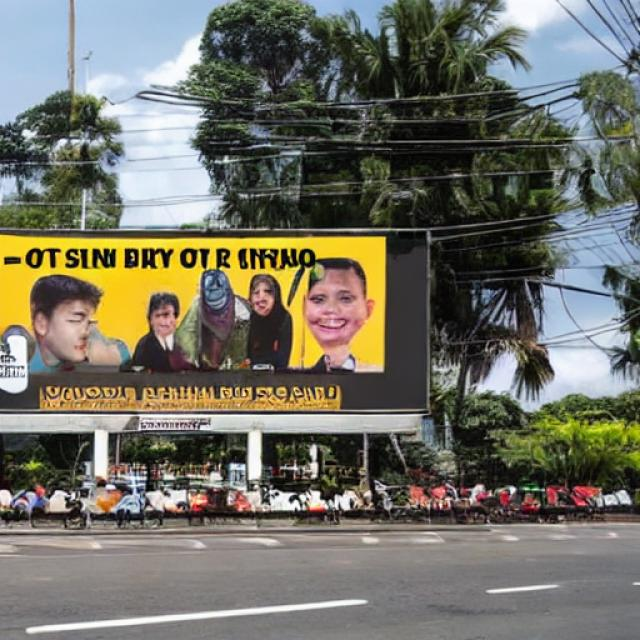Billboard: (2, 232, 428, 432)
